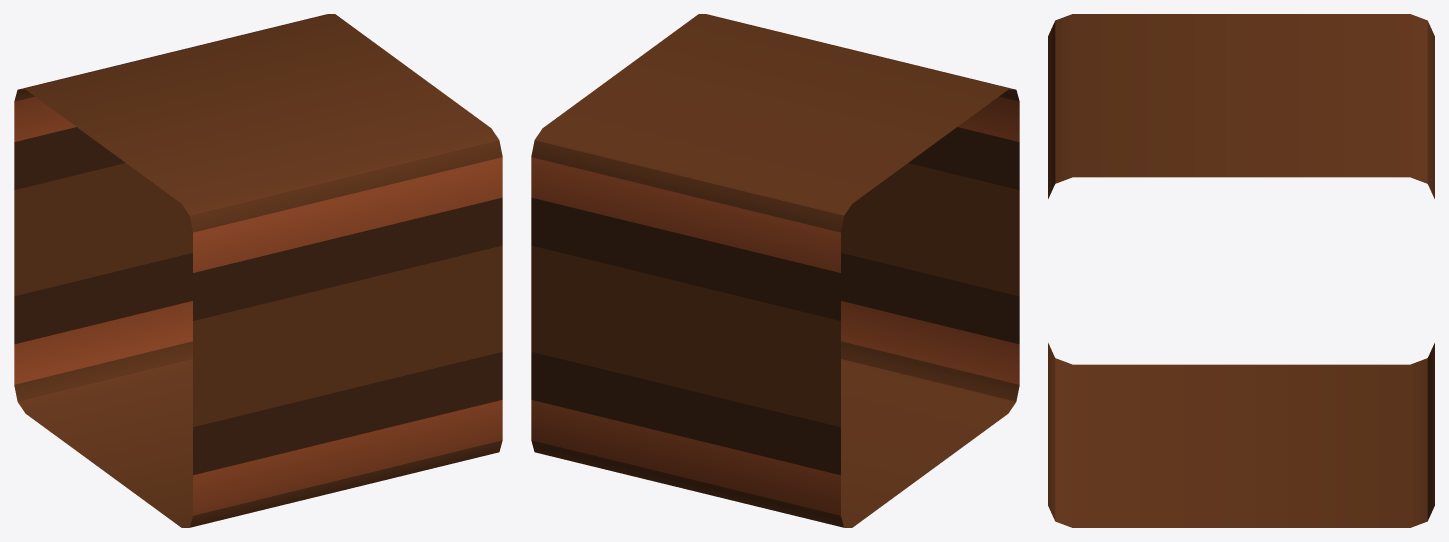
Rendered from Cube_Dirt_1x1Center.obj.
3 renders of one model, left to right at view 1: azimuth 30°, elevation 25°; view 2: azimuth 150°, elevation 25°; view 3: azimuth 270°, elevation 25°, orthographic. The views are drawn at different scales.
Parts seen in each view (by area): view 1: Cube_Dirt_1x1Center_Cube.047; view 2: Cube_Dirt_1x1Center_Cube.047; view 3: Cube_Dirt_1x1Center_Cube.047.
Part boxes in pixels (x1,y1,x2,y2): Cube_Dirt_1x1Center_Cube.047: (14, 14, 502, 527); Cube_Dirt_1x1Center_Cube.047: (531, 14, 1019, 527); Cube_Dirt_1x1Center_Cube.047: (1048, 14, 1434, 527).
Bounding box in the file's own units: 2 × 2 × 2.
